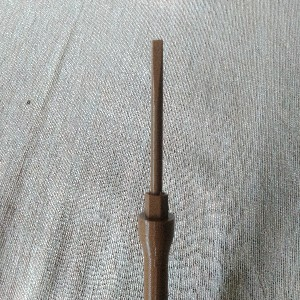obeng: (136, 37, 177, 300)
